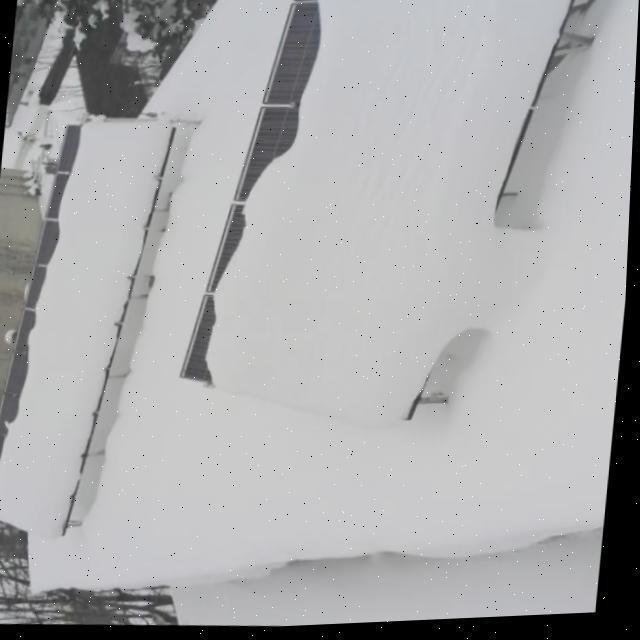Anomaly Solar Panel: (180, 0, 568, 426), (0, 124, 175, 539)
Snow: (201, 0, 567, 426), (0, 124, 176, 540)
